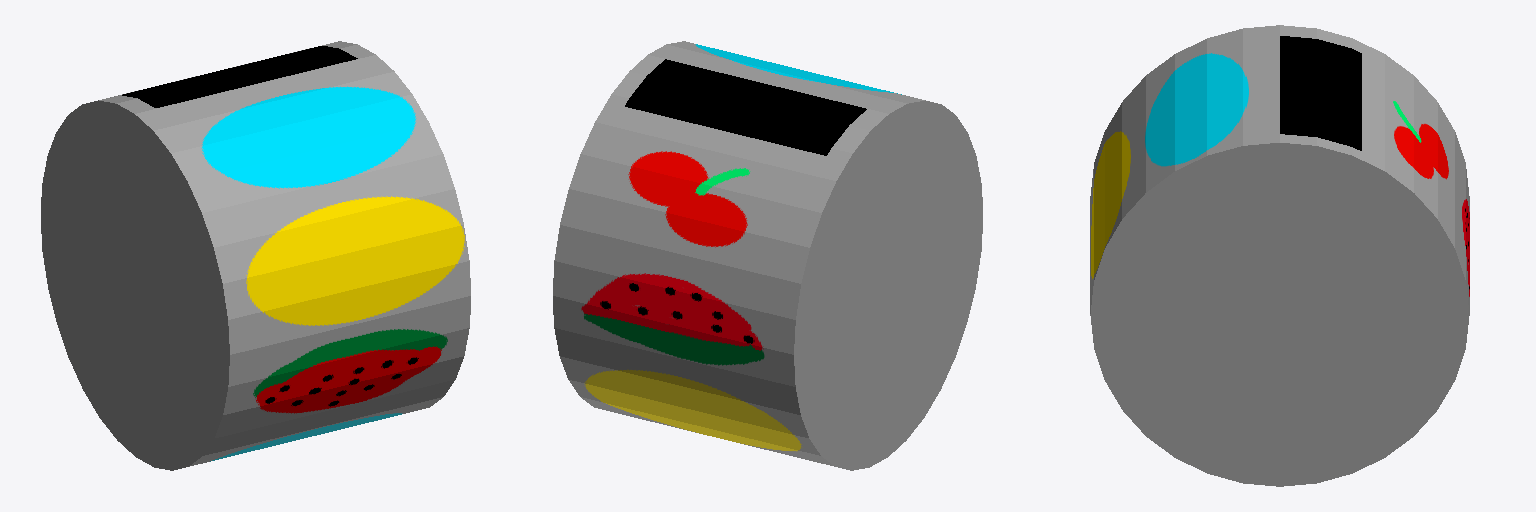
The picture shows the model from 3 angles: view 1: azimuth 30°, elevation 25°; view 2: azimuth 150°, elevation 25°; view 3: azimuth 270°, elevation 25°; orthographic projection.
Parts seen in each view (by area): view 1: 円柱; view 2: 円柱; view 3: 円柱.
Boxes of the visible parts, box(x1,y1,x2,y2) form: 円柱: box(41, 41, 470, 470); 円柱: box(553, 41, 982, 470); 円柱: box(1090, 25, 1469, 486).
Bounding box in the file's own units: 3.78 × 5.13 × 5.13.
Materials: 1 (1 with a texture image).